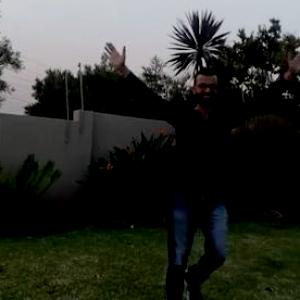takeoff: (108, 53, 294, 299)
